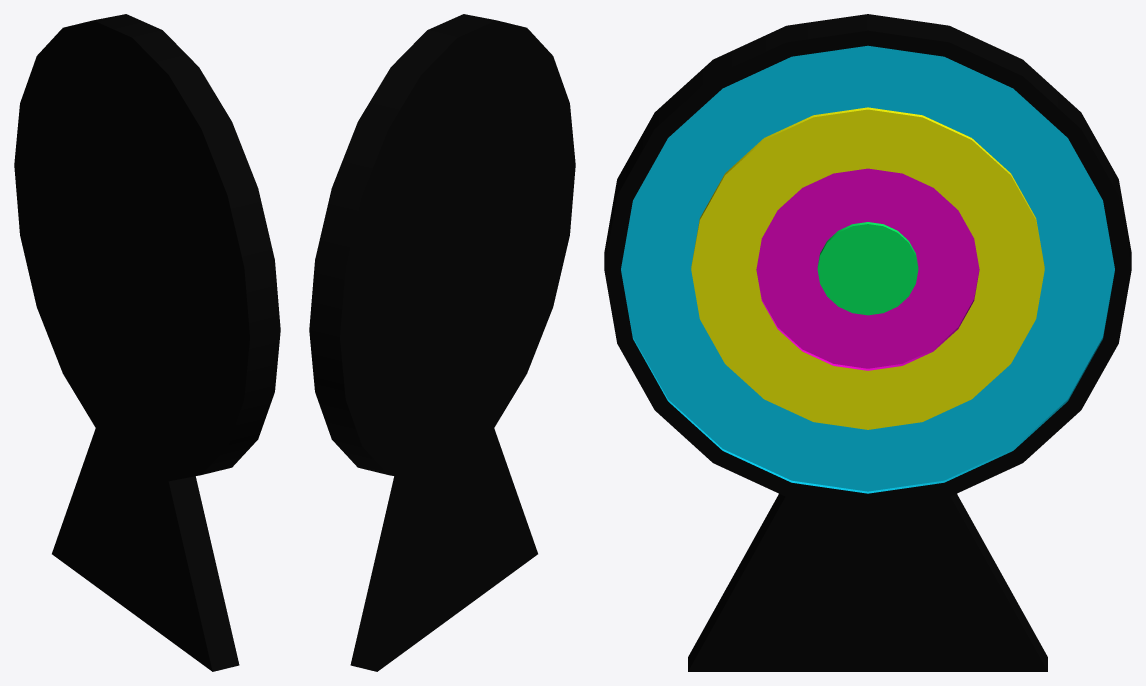
Rendered from Dart.fbx.
The picture shows the model from 3 angles, left to right: view 1: azimuth 30°, elevation 25°; view 2: azimuth 150°, elevation 25°; view 3: azimuth 270°, elevation 25°; orthographic projection. The views are drawn at different scales.
Visible parts, largest first — view 1: Dart; view 2: Dart; view 3: Dart.
Part boxes in pixels (x1=…): Dart: x1=14, y1=14, x2=280, y2=671; Dart: x1=309, y1=14, x2=575, y2=671; Dart: x1=604, y1=14, x2=1131, y2=671.
Size of the model in its own units: 14.74 by 265 by 197.
